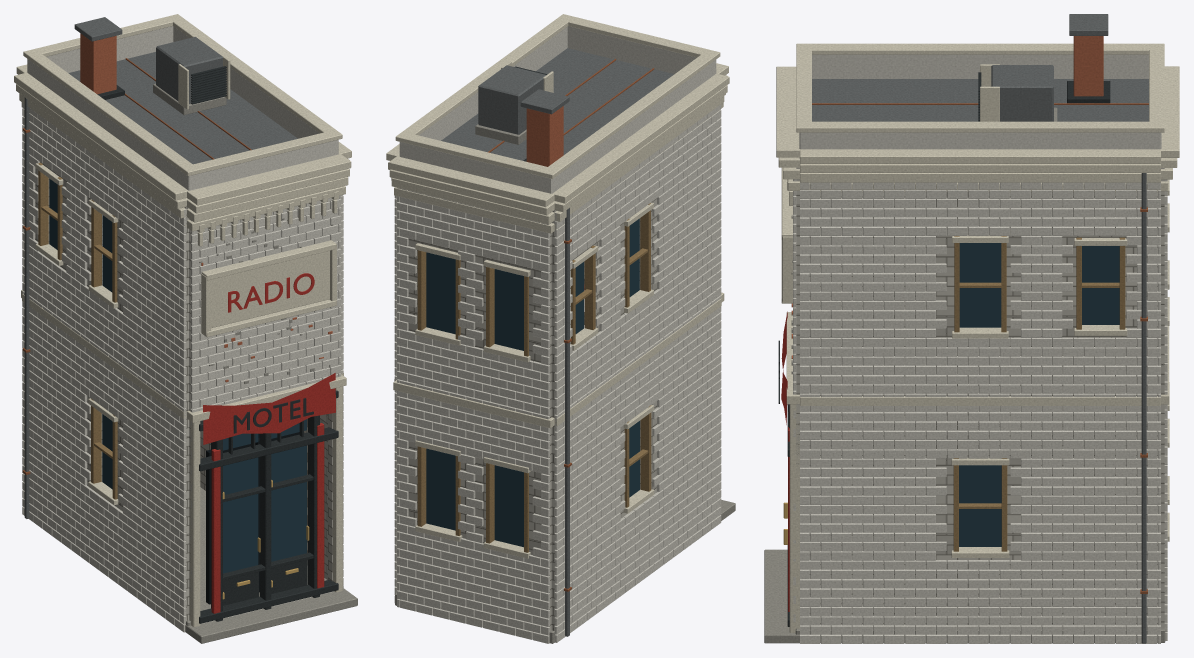
The model's file is BUSS4_lod0.glb.
3 views of the same model, side by side, from view 1: azimuth 30°, elevation 25°; view 2: azimuth 150°, elevation 25°; view 3: azimuth 270°, elevation 25° (orthographic). The views are drawn at different scales.
Parts seen in each view (by area): view 1: BUSS4_LOD0; view 2: BUSS4_LOD0; view 3: BUSS4_LOD0.
Part boxes in pixels (x1=…): BUSS4_LOD0: x1=14, y1=14, x2=357, y2=643; BUSS4_LOD0: x1=386, y1=14, x2=735, y2=643; BUSS4_LOD0: x1=764, y1=14, x2=1179, y2=643.
Size of the model in its own units: 3.78 by 10.25 by 6.9.
15 materials, 12 textured.
